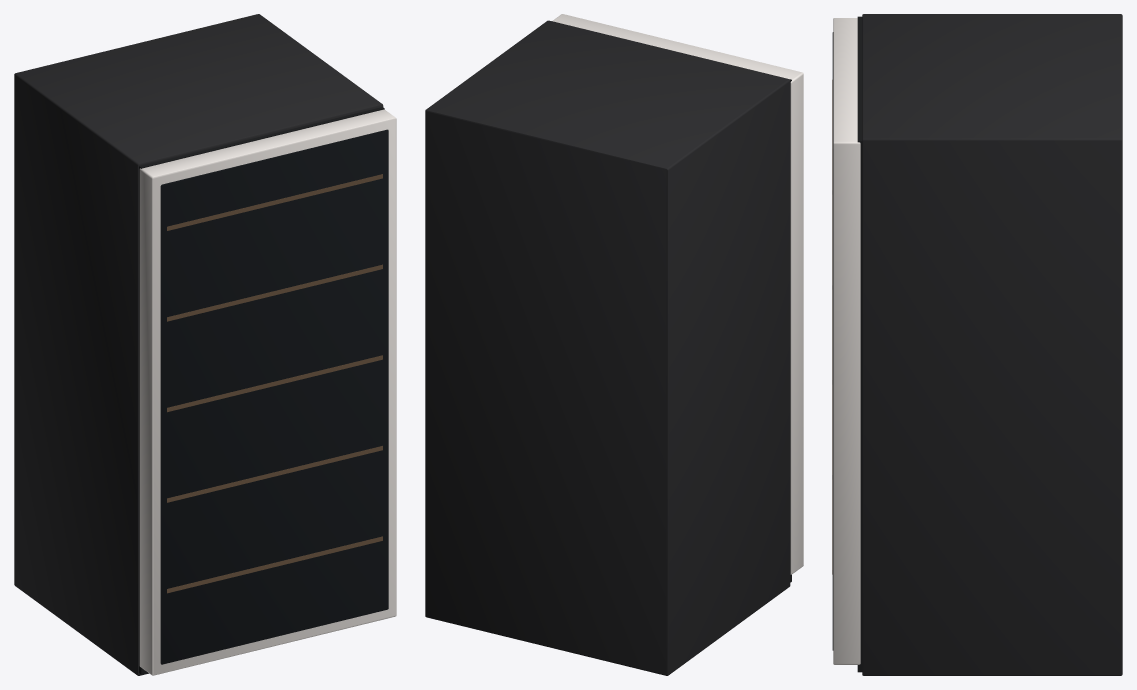
3 renders of one model, left to right at view 1: azimuth 30°, elevation 25°; view 2: azimuth 150°, elevation 25°; view 3: azimuth 270°, elevation 25°, orthographic. The views are drawn at different scales.
Visible parts, largest first — view 1: W0772GB; view 2: W0772GB; view 3: W0772GB.
Boxes of the visible parts, x1,y1,x2,y2 form: W0772GB: (14, 14, 396, 675); W0772GB: (425, 14, 803, 675); W0772GB: (832, 14, 1122, 675).
Size of the model in its own units: 0.595 by 1.2 by 0.58.
